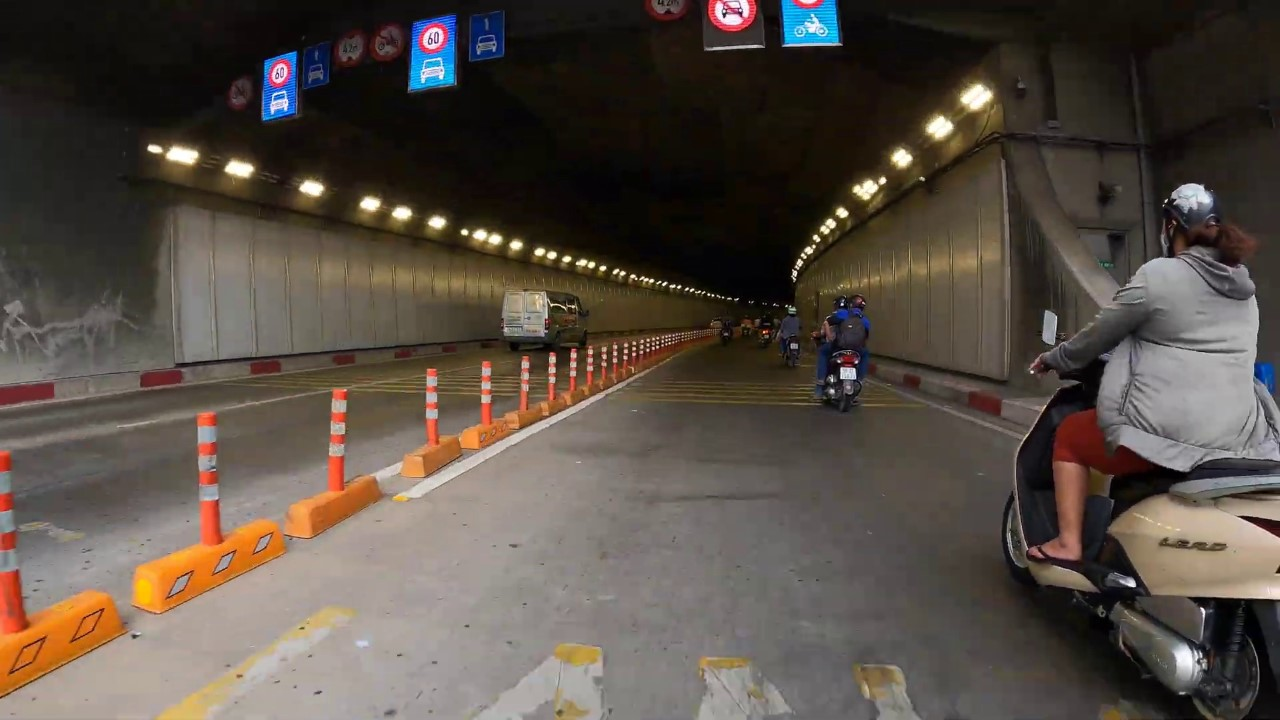gioi_han_60km: (417, 21, 450, 54), (267, 58, 293, 88)
